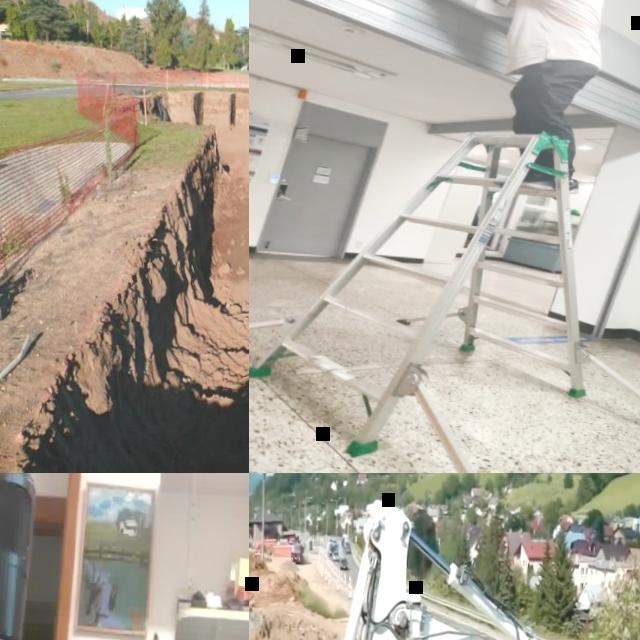NO-Safety Vest: (508, 0, 611, 72)
Person: (435, 0, 613, 195)
machinery: (283, 493, 640, 640), (291, 542, 306, 563)
vehicle: (339, 558, 348, 570), (332, 551, 340, 562), (329, 545, 336, 556), (346, 545, 352, 554), (289, 537, 296, 544), (344, 542, 349, 549), (333, 540, 338, 546), (329, 538, 332, 544)
